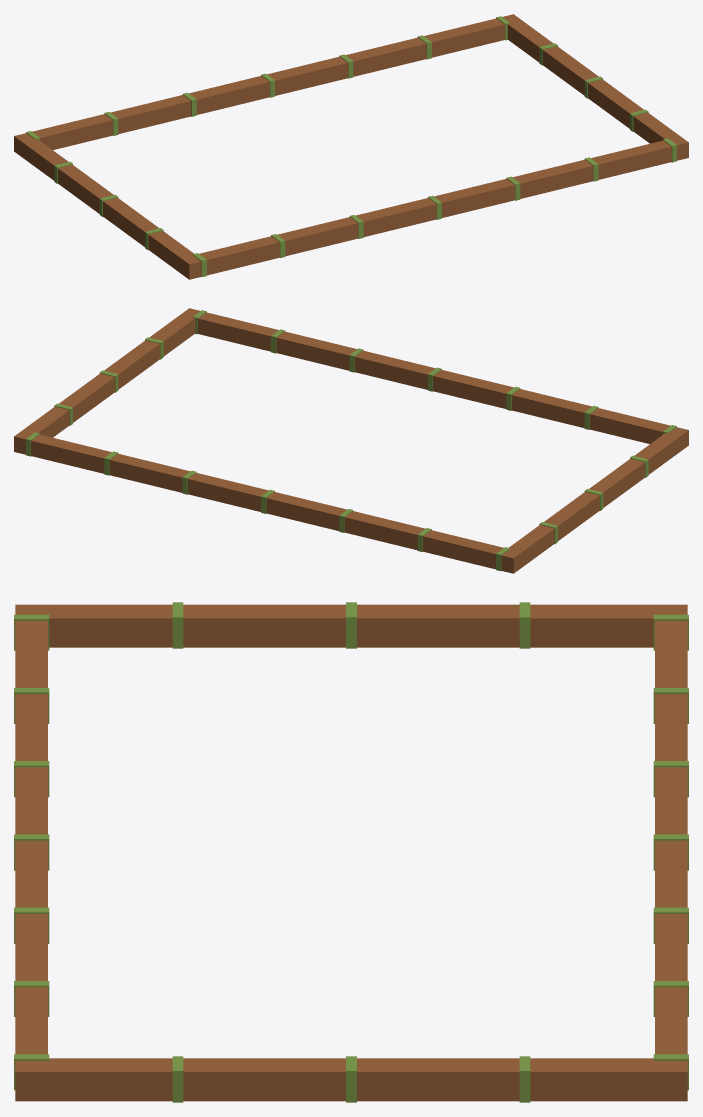
File: frame.glb
The picture shows the model from 3 angles, top to bottom: view 1: azimuth 30°, elevation 25°; view 2: azimuth 150°, elevation 25°; view 3: azimuth 270°, elevation 25°; orthographic projection. The views are drawn at different scales.
Visible parts, largest first — view 1: Frame; view 2: Frame; view 3: Frame.
Part boxes in pixels (x1=…): Frame: x1=14, y1=14, x2=688, y2=279; Frame: x1=14, y1=308, x2=688, y2=573; Frame: x1=14, y1=602, x2=688, y2=1102.
Bounding box in the file's own units: 204 × 6.4 × 124.
